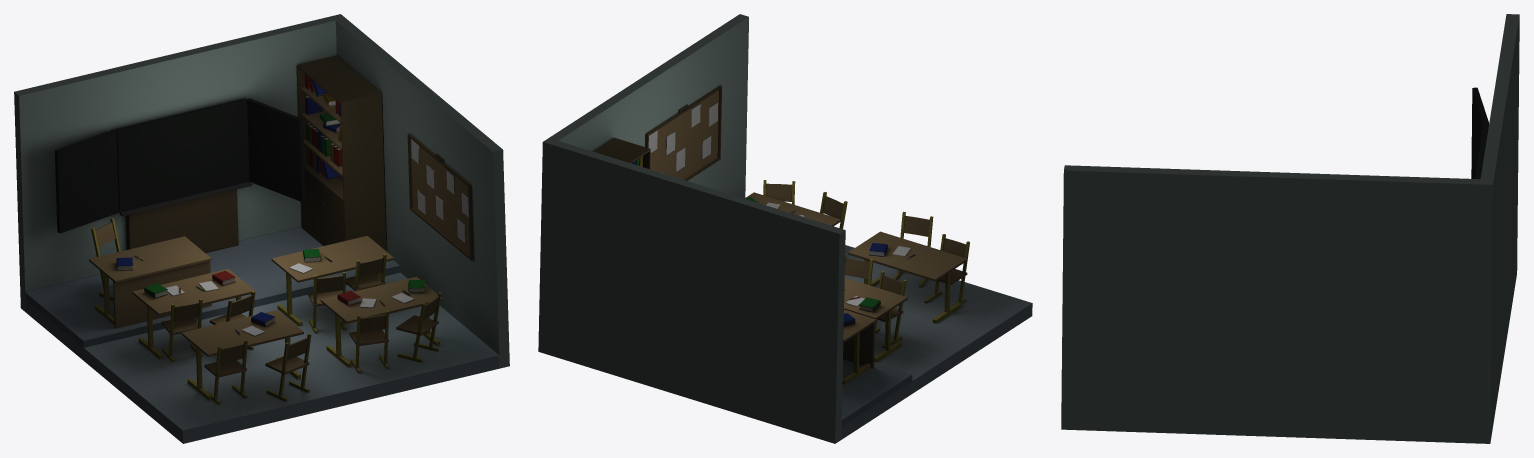
The model's file is school.glb.
3 views of the same model, side by side, from view 1: azimuth 30°, elevation 25°; view 2: azimuth 150°, elevation 25°; view 3: azimuth 270°, elevation 25° (orthographic). The views are drawn at different scales.
Parts seen in each view (by area): view 1: school_schoolMaterial_0; view 2: school_schoolMaterial_0; view 3: school_schoolMaterial_0.
Part boxes in pixels (x1,y1,x2,y2): school_schoolMaterial_0: [14, 14, 509, 443]; school_schoolMaterial_0: [538, 14, 1032, 443]; school_schoolMaterial_0: [1061, 14, 1519, 443].
Bounding box in the file's own units: 13.55 × 8.83 × 13.61.
Materials: 1 (1 with a texture image).
